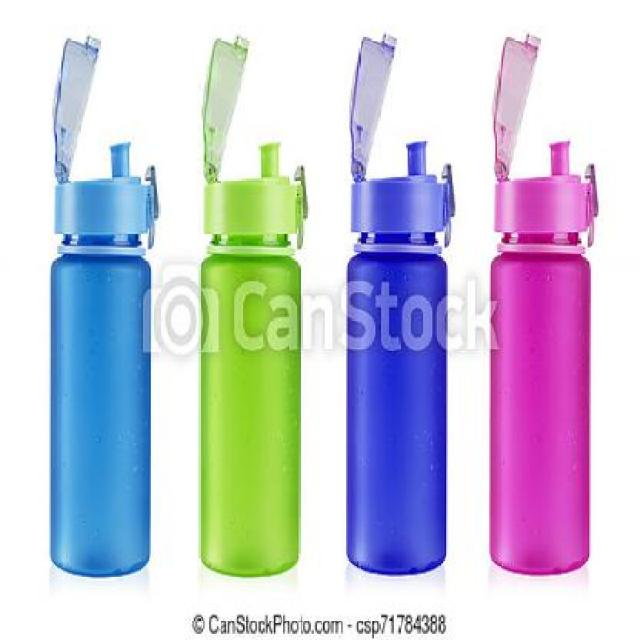Drinking: (186, 108, 305, 598), (37, 102, 155, 596), (490, 72, 598, 598), (335, 102, 450, 593)
